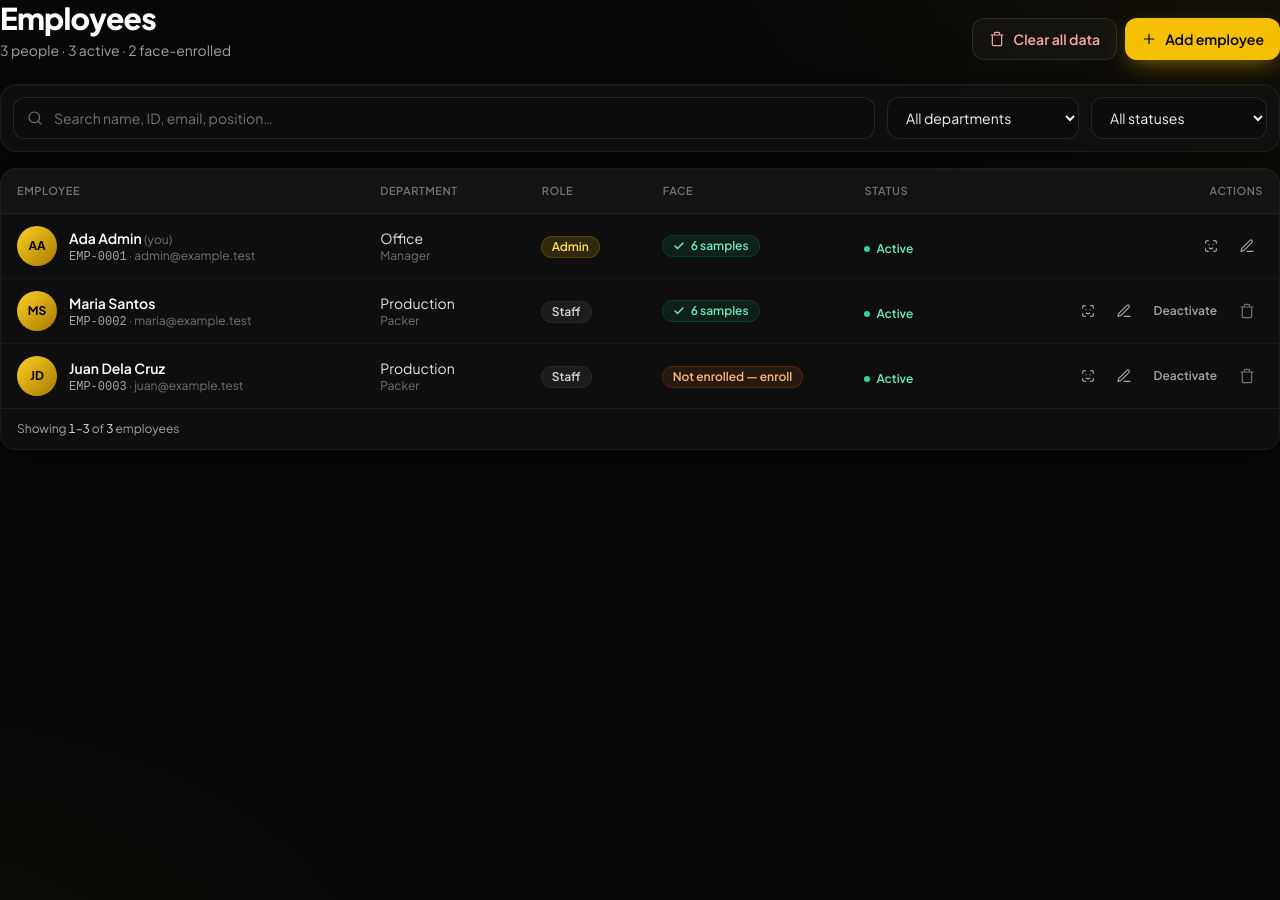
it: Employees page › keeps an archived employee in the list as deactivated and says so
This screenshot has width=1280, height=900.
expect the text "Maria Santos" is shown: met, box left=69, top=294, right=155, bottom=312
Click the button named "Delete Maria Santos": (1247, 311) left=1231, top=295, right=1263, bottom=327
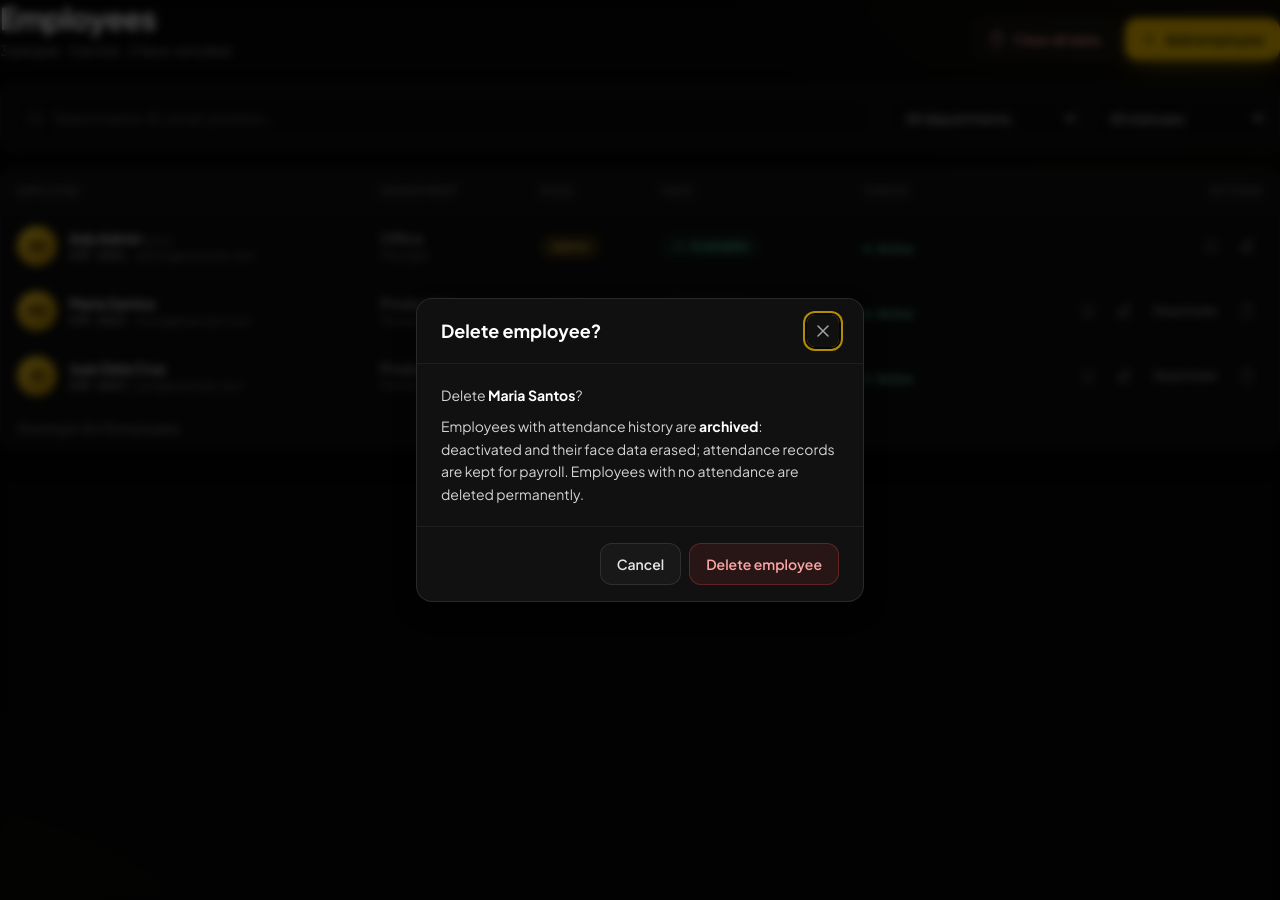
Click the button "Delete employee": (764, 564) left=689, top=543, right=839, bottom=585
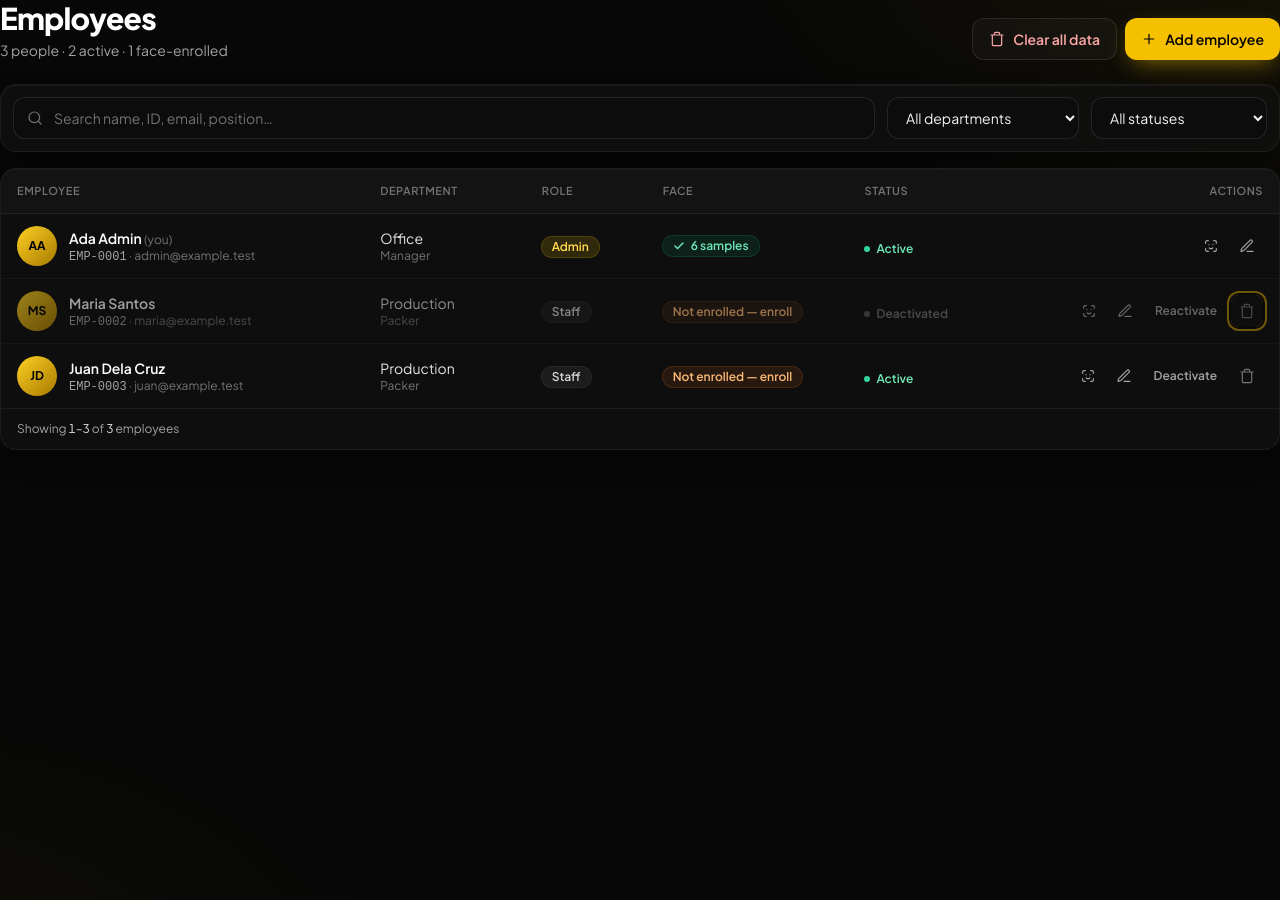
expect the text "Deactivated" is shown: met, box left=864, top=306, right=948, bottom=322
expect the link "Not enrolled — enroll" in the row of "MS" is shown: met, box left=663, top=302, right=802, bottom=322
